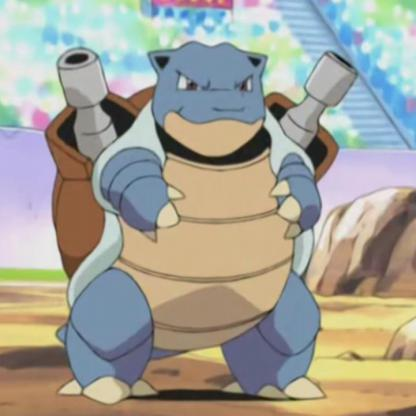Blastoise: (1, 39, 416, 416)
